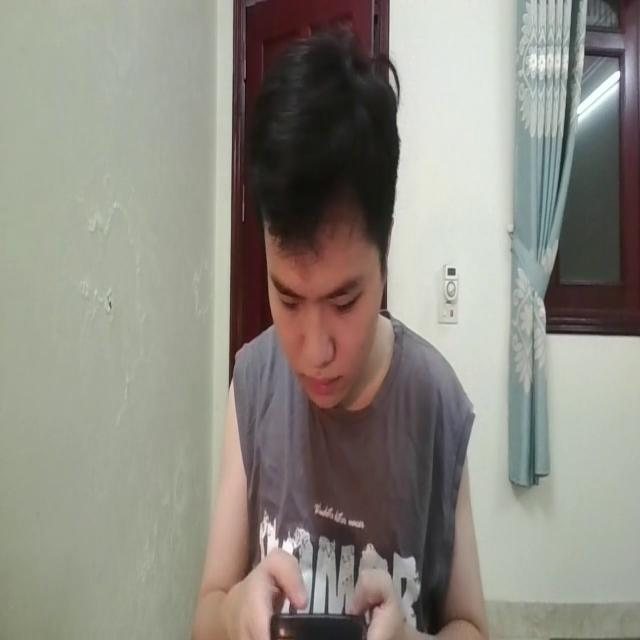phone: (266, 590, 367, 640)
student: (198, 28, 491, 640)
